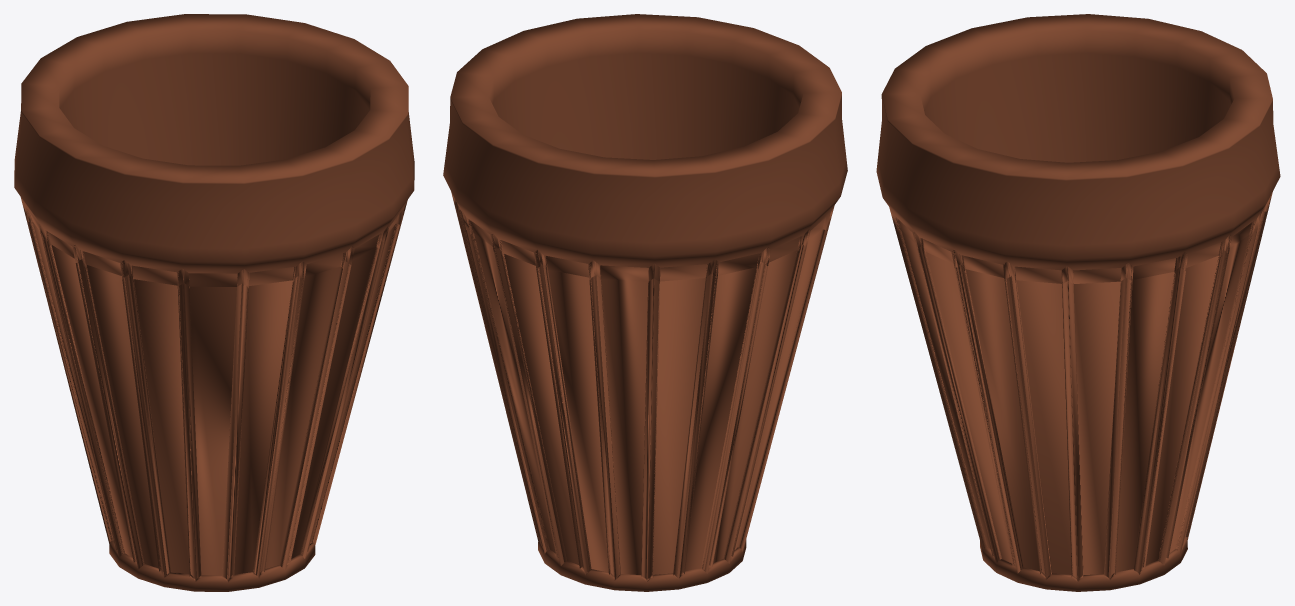
Rendered from cup.glb.
The picture shows the model from 3 angles, left to right: view 1: azimuth 30°, elevation 25°; view 2: azimuth 150°, elevation 25°; view 3: azimuth 270°, elevation 25°; orthographic projection.
Parts seen in each view (by area): view 1: TeaGlass; view 2: TeaGlass; view 3: TeaGlass.
Boxes of the visible parts, <box> form: TeaGlass: <box>14,14,414,591</box>; TeaGlass: <box>443,14,847,591</box>; TeaGlass: <box>876,14,1280,591</box>.
Bounding box in the file's own units: 2.06 × 2.56 × 2.06.
